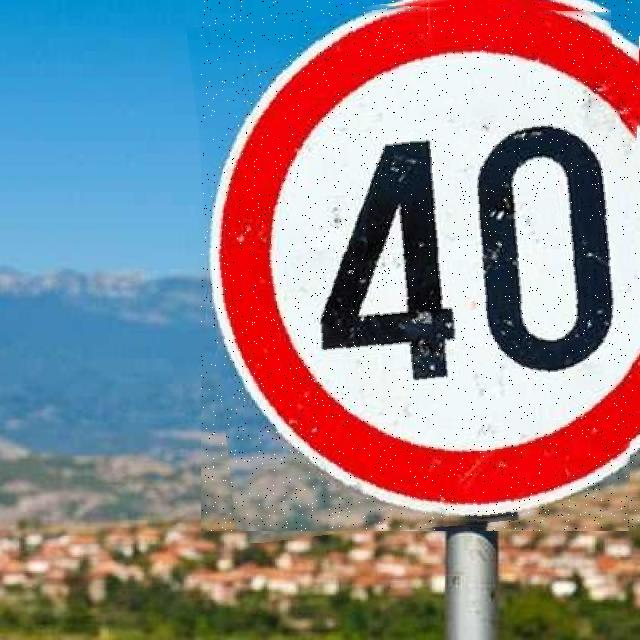speed limit 40: (201, 0, 640, 531)
